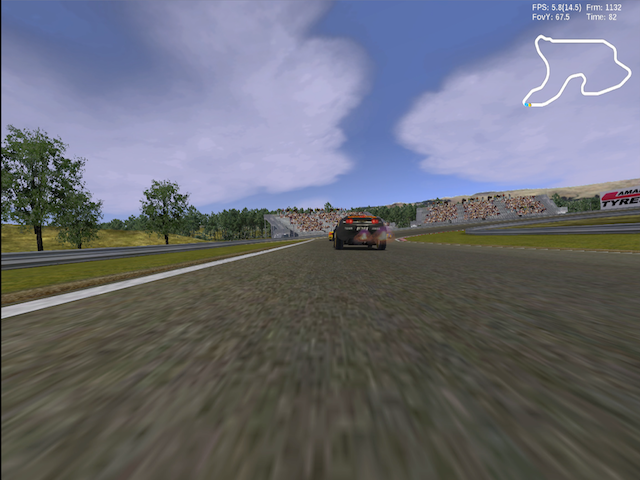Cavallo360: (327, 231, 333, 242)
Spirit300: (333, 214, 387, 251)
